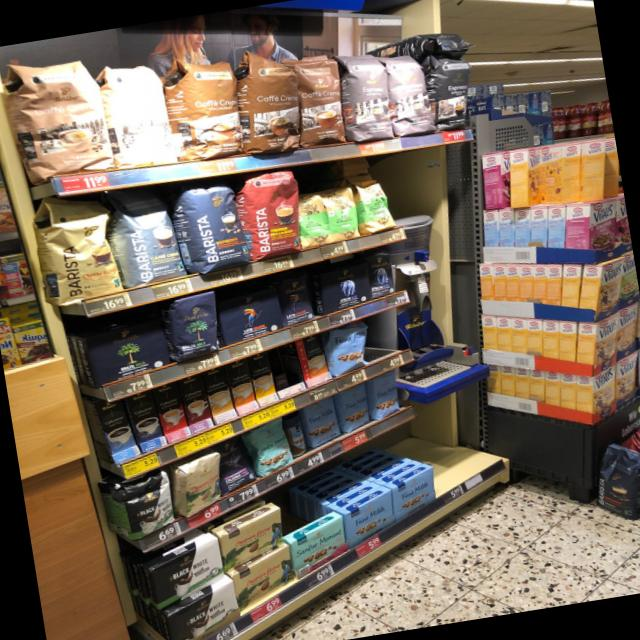AB Bohne: (365, 250, 398, 301)
AB Gemahlen: (320, 257, 374, 314)
Athiopien Bohne: (352, 176, 399, 237)
Athiopien Gemahlen: (294, 189, 336, 249), (327, 185, 363, 242)
BM Bohne: (164, 289, 224, 365)
BM Gemahlen: (86, 316, 173, 389)
BW Bohne: (109, 464, 182, 545)
BW Gemahlen: (144, 537, 227, 614), (165, 579, 241, 640)
Barista CB: (27, 190, 128, 306)
Barista CC: (102, 185, 189, 288)
Barista Espresso: (171, 181, 255, 280)
Barista Kolumbien: (234, 169, 308, 266)
CC Mild: (0, 48, 118, 187)
CC Vollmundig 36 Pads: (160, 50, 248, 166), (232, 42, 308, 160), (292, 48, 350, 151)
Colombia BB Bohne: (178, 451, 224, 521)
Colombia BB Gemahlen: (231, 544, 296, 612), (220, 506, 284, 573)
Empty Shelf: (417, 440, 497, 480), (364, 311, 401, 363)
Espresso Aromatisch: (335, 46, 397, 146), (381, 50, 438, 141)
Espresso S Art: (426, 47, 478, 133)
FM 36 Pads: (327, 319, 373, 380)
FM Bohne: (303, 396, 343, 450), (369, 368, 406, 424), (338, 382, 375, 435)
FM Gemahlen: (342, 488, 394, 551), (389, 465, 436, 523)
FM Instant: (282, 411, 312, 460)
LG Bohne: (272, 273, 317, 329)
LG Gemahlen: (217, 288, 286, 348)
SM Bohne: (240, 416, 299, 482)
SM Gemahlen: (287, 515, 349, 579)
Simo CCMild bigpack: (245, 350, 279, 408)
Simo CCVollmundig: (294, 333, 336, 389)
Simo CCVollmundig bigpack: (225, 357, 260, 417)
Simo Es Elegant: (151, 381, 194, 446)
Simo Es Kraft: (177, 373, 216, 435)
Simo Kaffee Kraft: (123, 389, 170, 455)
Simo Kaffee Mild: (95, 402, 141, 466)
